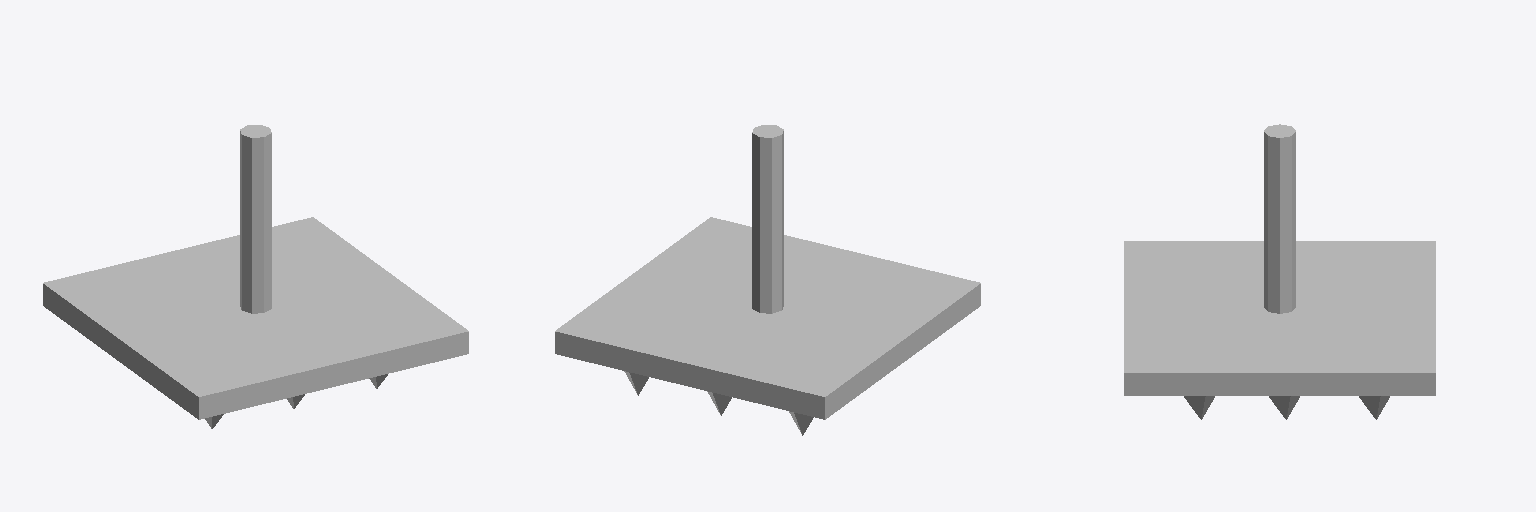
Rendered from SpikeTop.obj.
3 renders of one model, left to right at view 1: azimuth 30°, elevation 25°; view 2: azimuth 150°, elevation 25°; view 3: azimuth 270°, elevation 25°, orthographic.
Parts seen in each view (by area): view 1: SpikesTop; view 2: SpikesTop; view 3: SpikesTop.
Boxes of the visible parts, <box> form: SpikesTop: <box>43,125,468,428</box>; SpikesTop: <box>555,125,980,435</box>; SpikesTop: <box>1124,124,1435,419</box>.
Bounding box in the file's own units: 1.71 × 1.51 × 1.71.